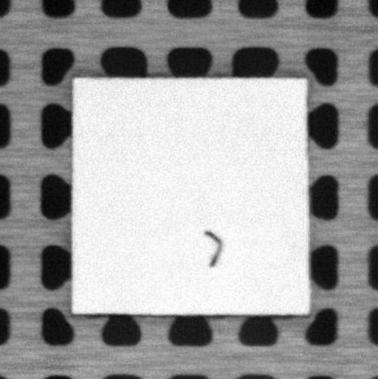DIE_INK: (203, 229, 222, 267)
